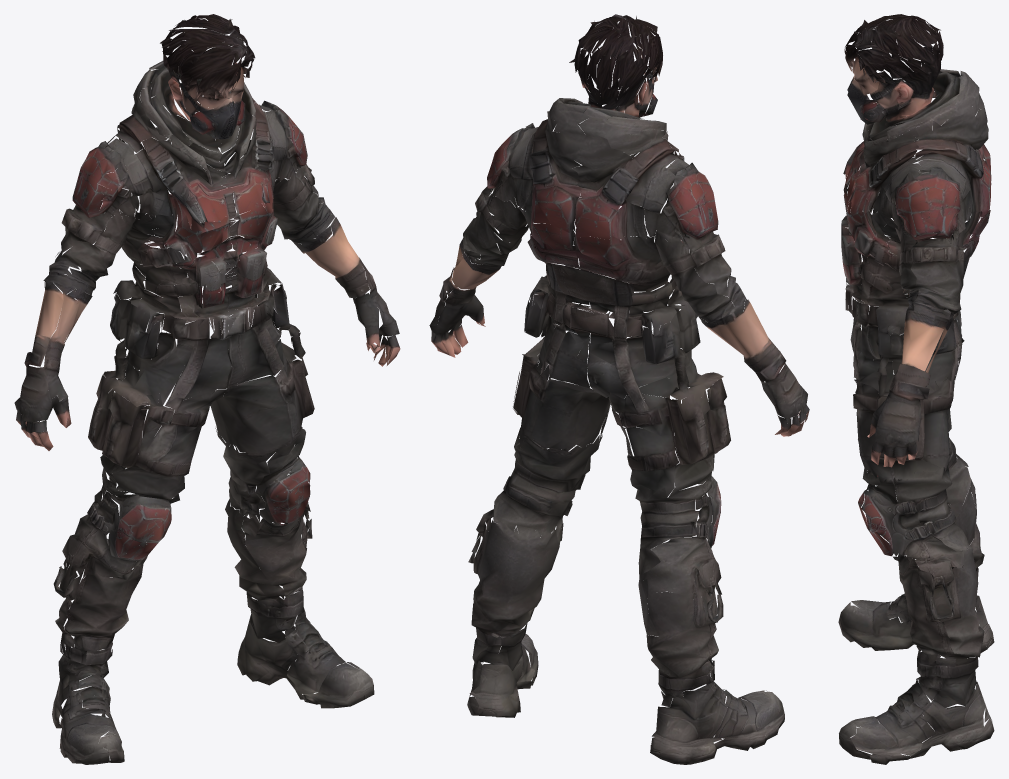
File: enemy-flanker-v1.glb
3 renders of one model, left to right at view 1: azimuth 30°, elevation 25°; view 2: azimuth 150°, elevation 25°; view 3: azimuth 270°, elevation 25°, orthographic. The views are drawn at different scales.
Parts seen in each view (by area): view 1: enemy-flanker; view 2: enemy-flanker; view 3: enemy-flanker.
Part boxes in pixels (x1,y1,x2,y2): enemy-flanker: [14, 14, 400, 764]; enemy-flanker: [429, 14, 809, 764]; enemy-flanker: [838, 14, 994, 764].
Bounding box in the file's own units: 1 × 1.83 × 0.3775.
Materials: 1 (1 with a texture image).
